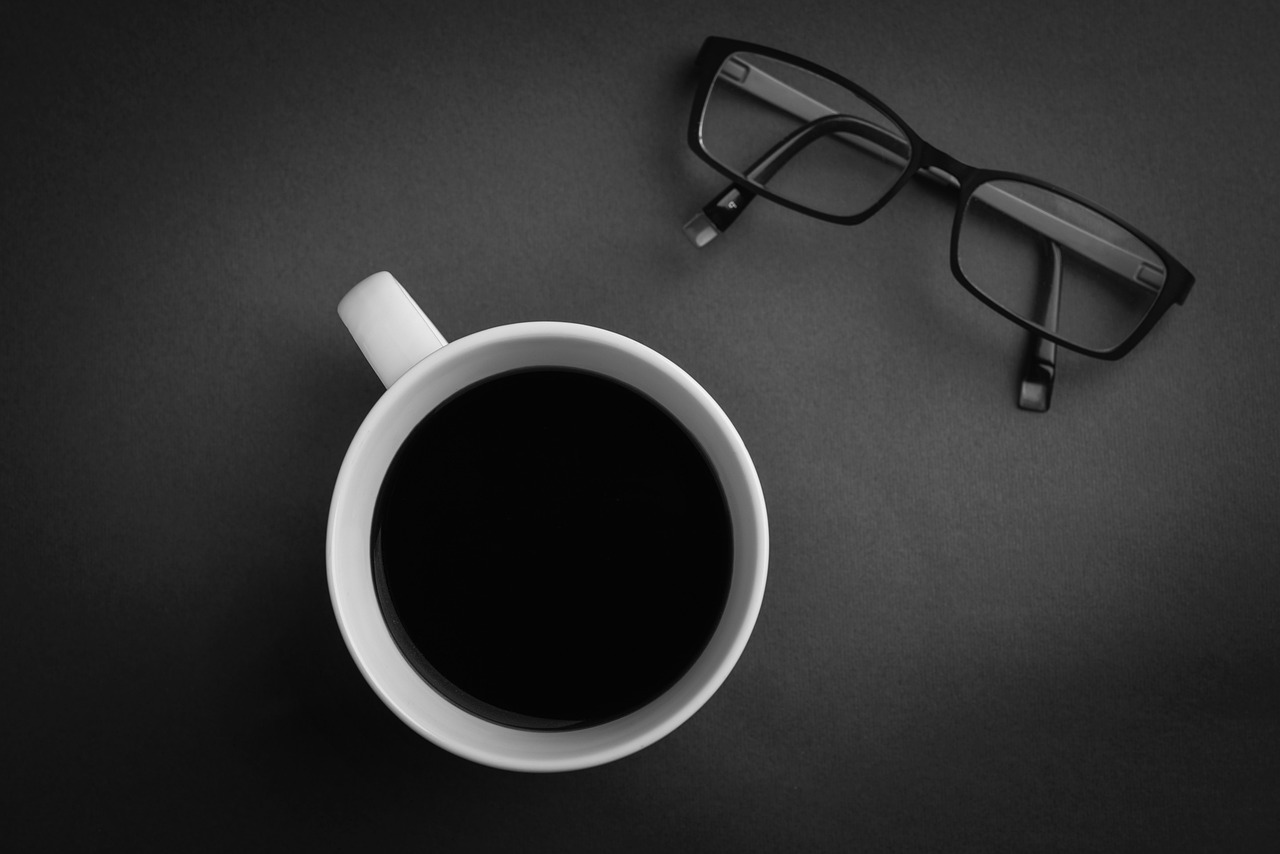mug: (262, 228, 874, 790)
